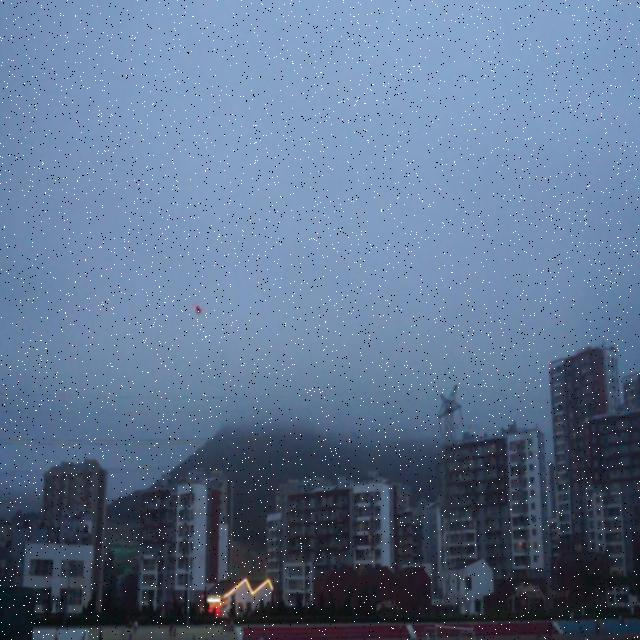UAV: (194, 304, 204, 316)
